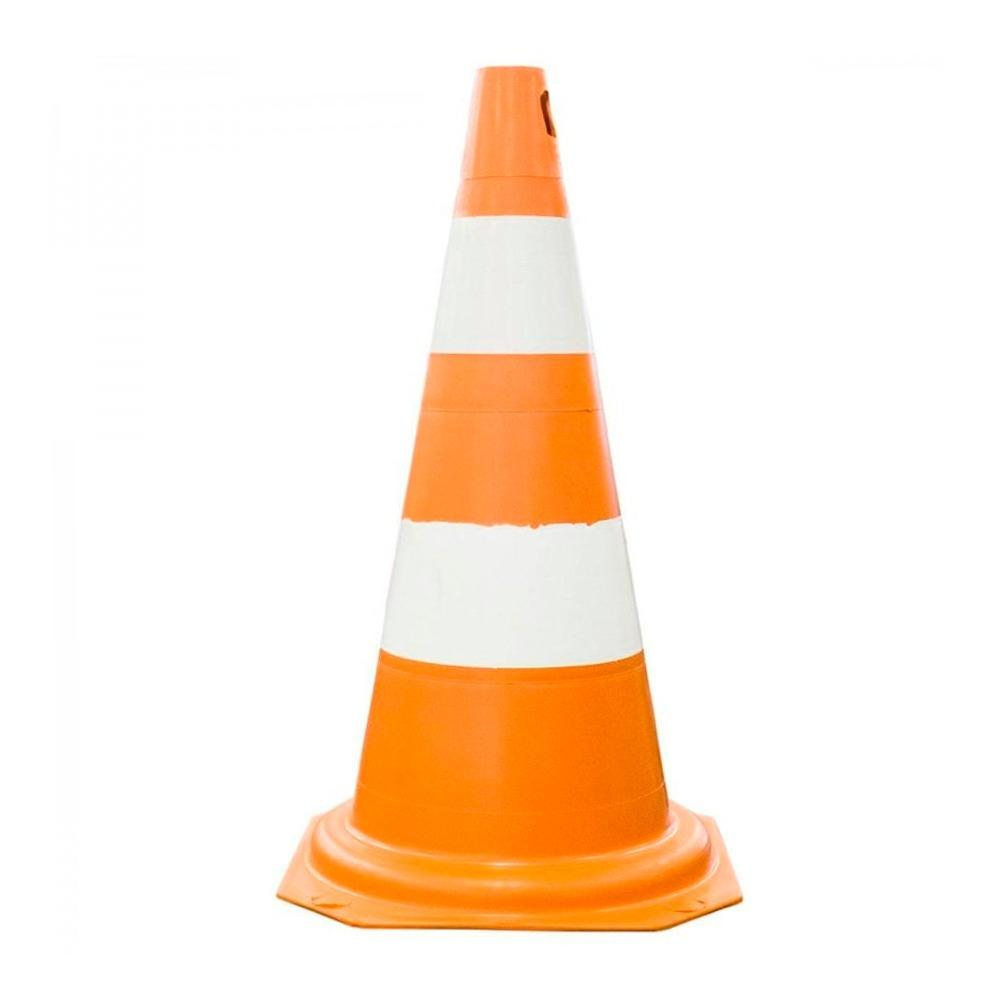traffic_cone: (275, 62, 744, 933)
